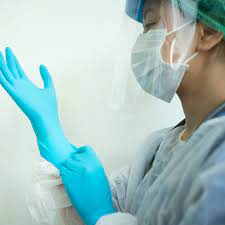Mask: (123, 30, 215, 104)
gloves: (3, 46, 94, 175)
